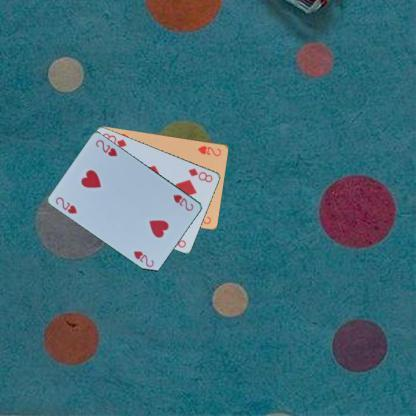2h: (53, 194, 79, 215), (170, 192, 195, 212), (196, 142, 223, 158)
8d: (186, 165, 214, 184)
